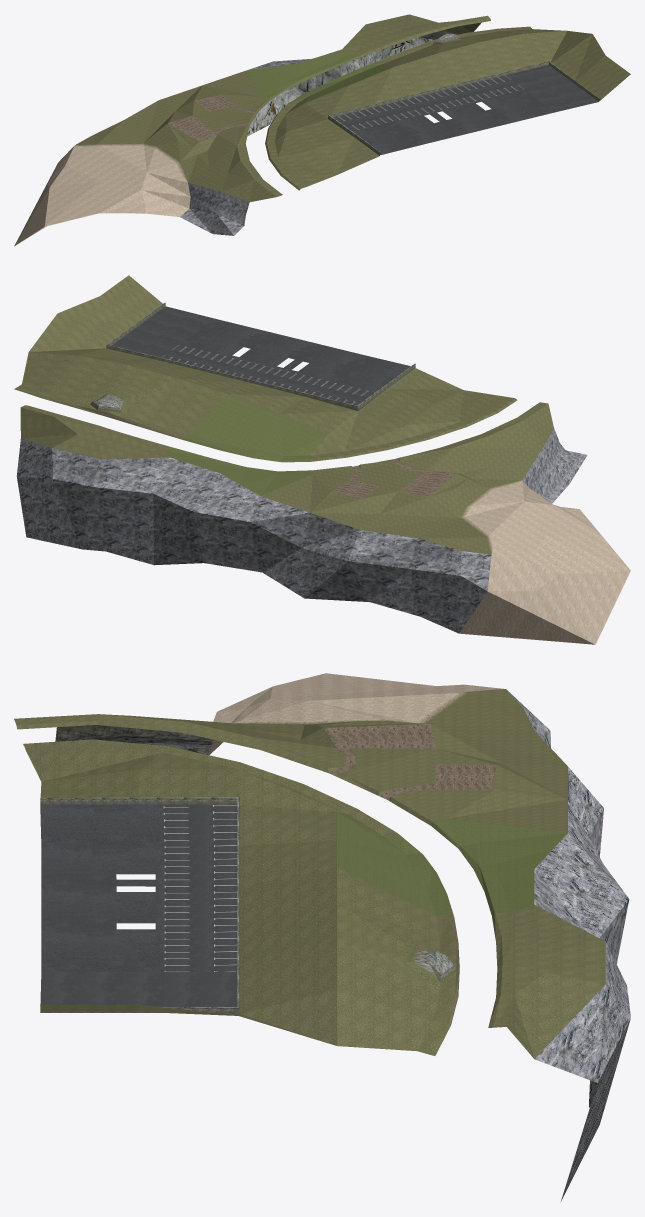
File: cuntwland26b.obj
3 renders of one model, top to bottom at view 1: azimuth 30°, elevation 25°; view 2: azimuth 150°, elevation 25°; view 3: azimuth 270°, elevation 25°, orthographic. The views are drawn at different scales.
Parts seen in each view (by area): view 1: cuntwland26b; view 2: cuntwland26b; view 3: cuntwland26b.
Part boxes in pixels (x1,y1,x2,y2): cuntwland26b: (14, 14, 630, 246); cuntwland26b: (14, 275, 630, 644); cuntwland26b: (14, 673, 630, 1201).
Size of the model in its own units: 379 by 85 by 197.
